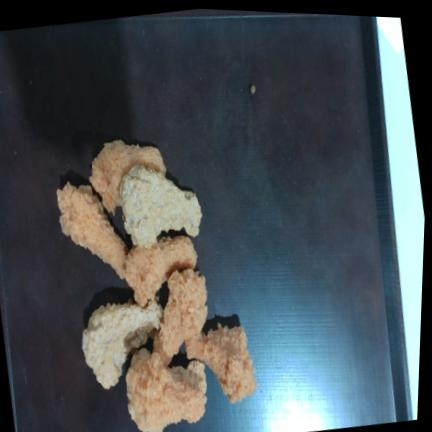chicken: (82, 299, 162, 389), (57, 183, 128, 278), (121, 165, 202, 248), (185, 323, 257, 403), (127, 359, 205, 432), (90, 140, 166, 214), (154, 269, 208, 364), (125, 236, 197, 306)
